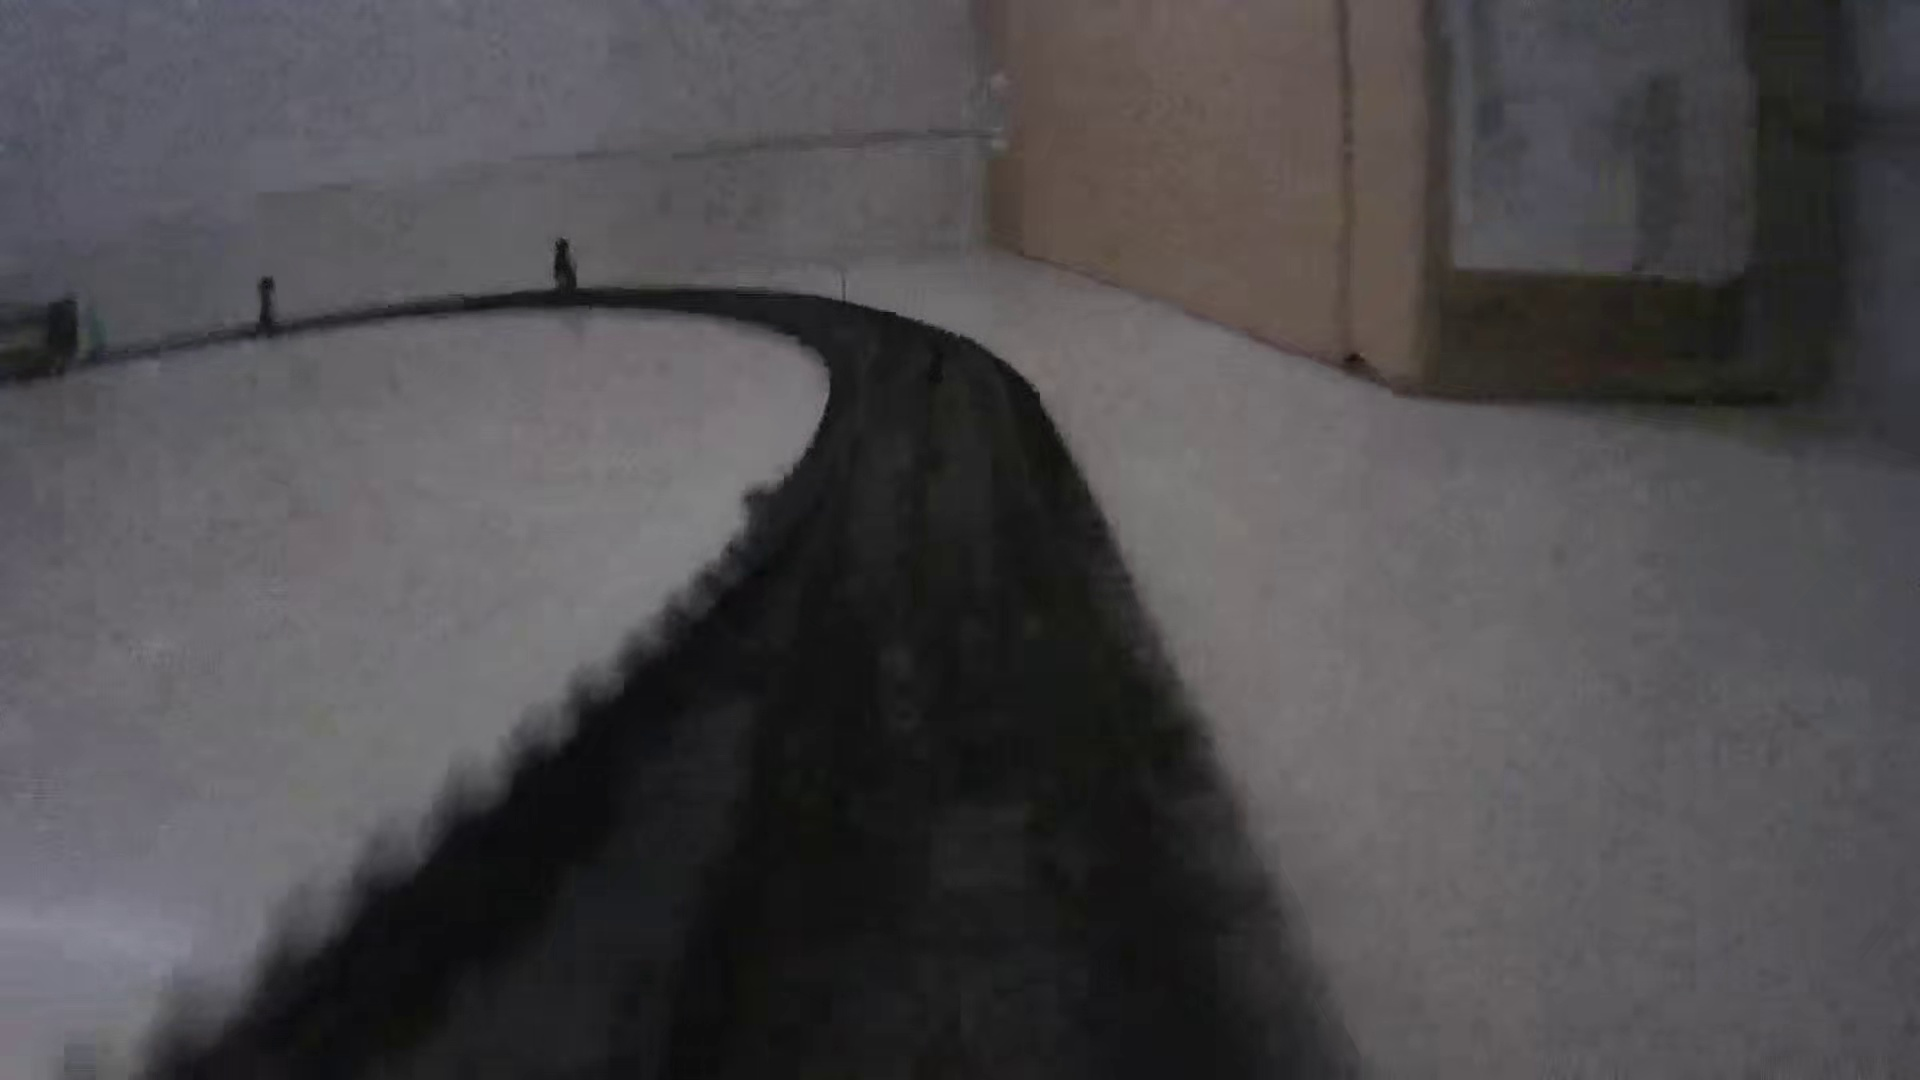people: (551, 238, 578, 294), (255, 275, 279, 333)
